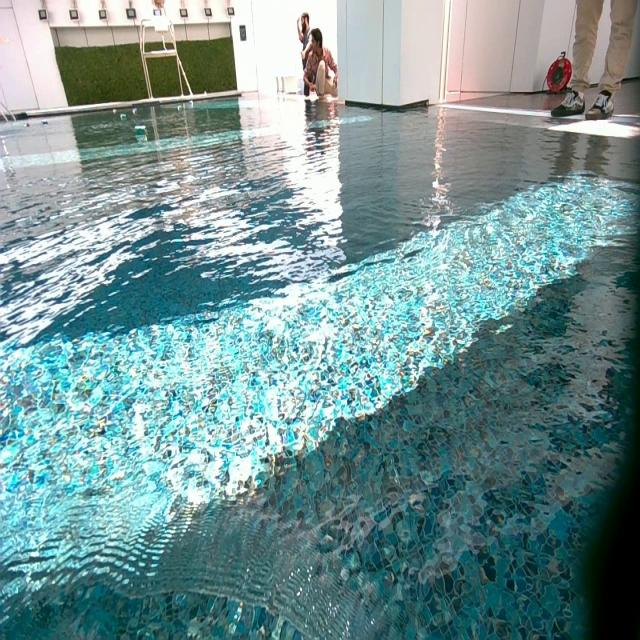Cans: (136, 126, 148, 138), (131, 108, 139, 115), (188, 100, 194, 108), (119, 114, 125, 121), (41, 119, 48, 125), (178, 105, 184, 112), (26, 121, 31, 128), (112, 110, 118, 115)
